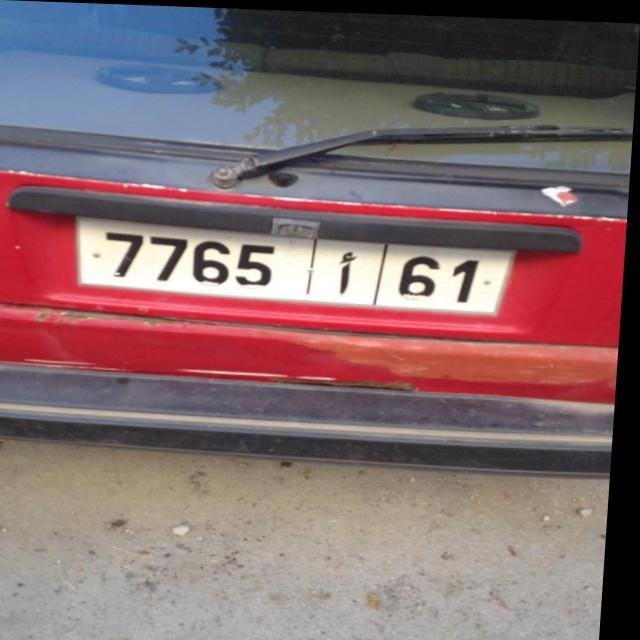License-Plate: (80, 217, 518, 309)
